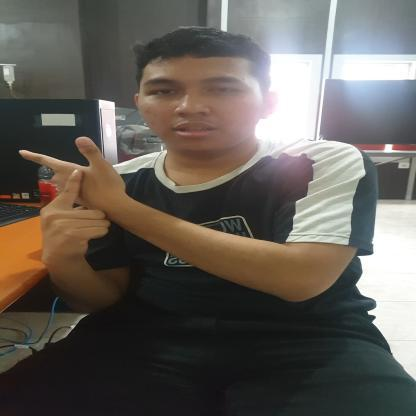Y: (17, 136, 127, 240)
